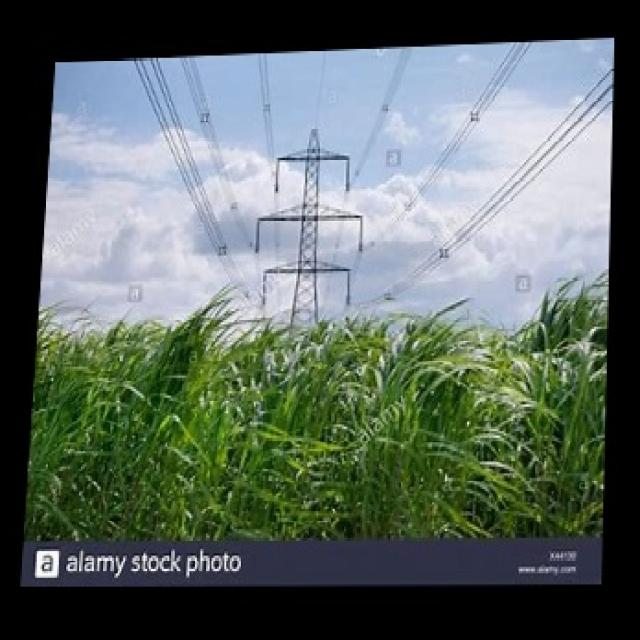utility poles: (252, 94, 376, 538)
